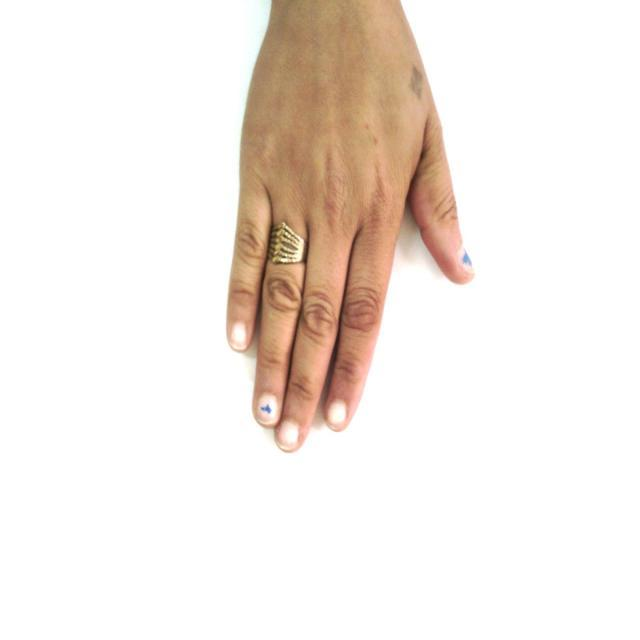Fingernail: (325, 399, 348, 431), (256, 392, 278, 425), (277, 420, 297, 450), (230, 320, 247, 350), (458, 246, 475, 274)
